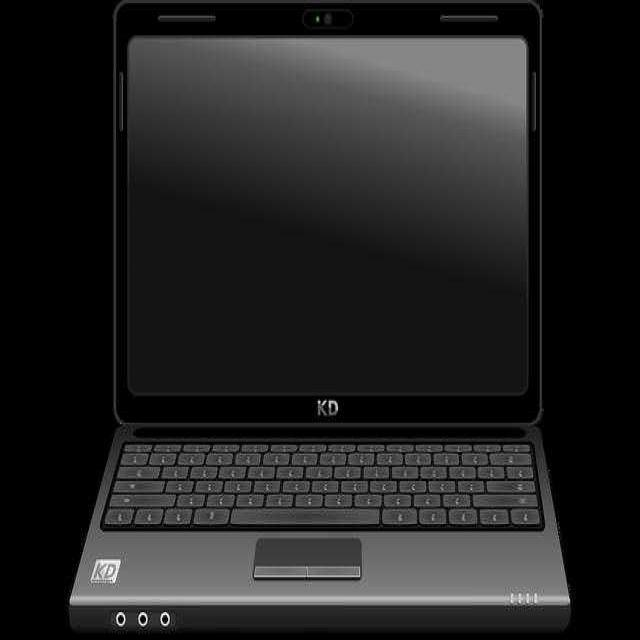laptop: (108, 6, 566, 630)
